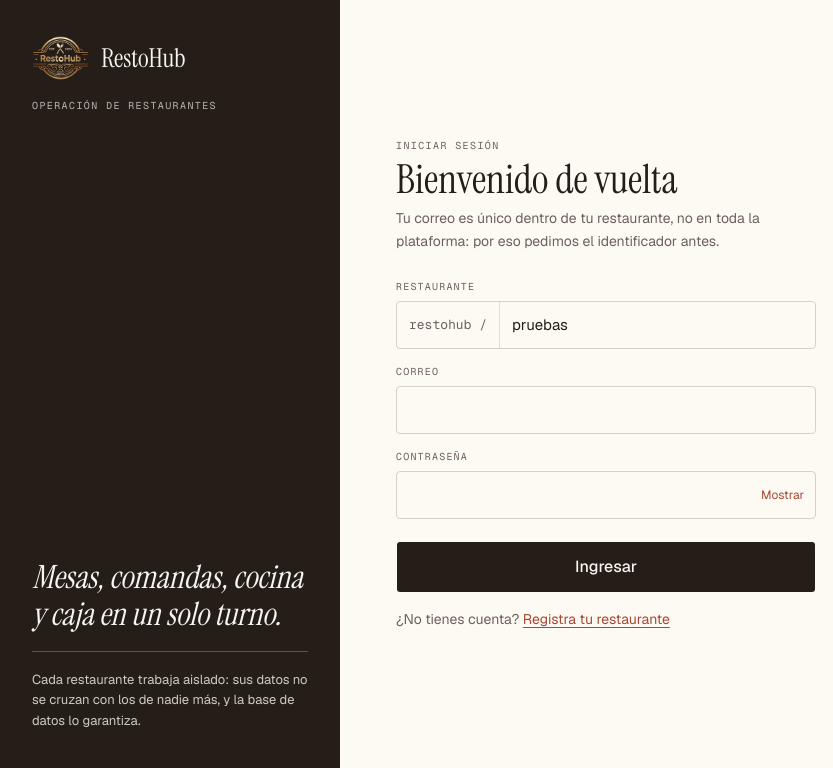
it: formulario de login › tras un 401 borra la contraseña, conserva restaurante y correo y muestra el mensaje único
In the field labelled "Correo": coordinates (606, 410) [396,386,816,434], type "mesero@pruebas.com"
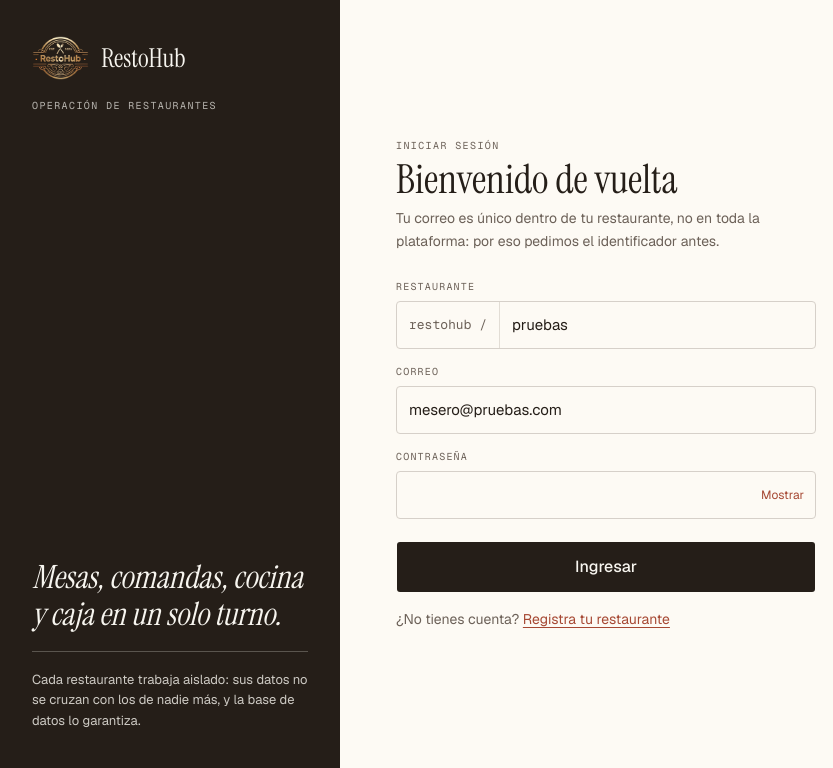
In the password field labelled "Contraseña": coordinates (606, 495) [396,471,816,519], type "Clave-Erronea-2026"
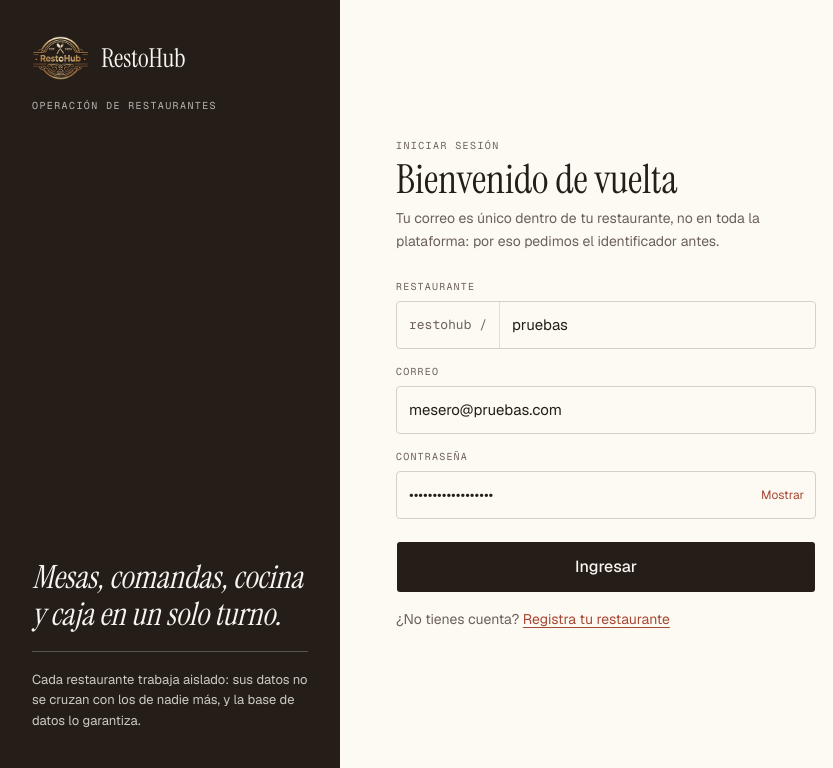
Click the button "Ingresar": coordinates (606, 567) [396,541,816,593]
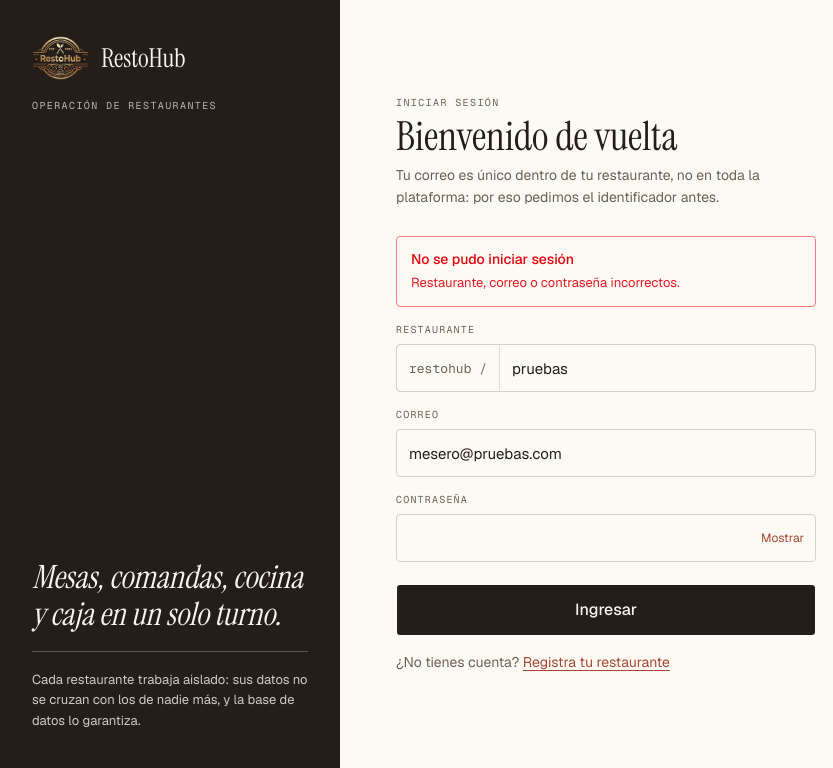
Check: the field labelled "Restaurante" holds "pruebas", box [500,345,815,391]
Check: the text "Restaurante, correo o contraseña incorrectos." is shown, box [411,274,680,292]
Check: the password field labelled "Contraseña" is empty, box [396,514,816,562]
